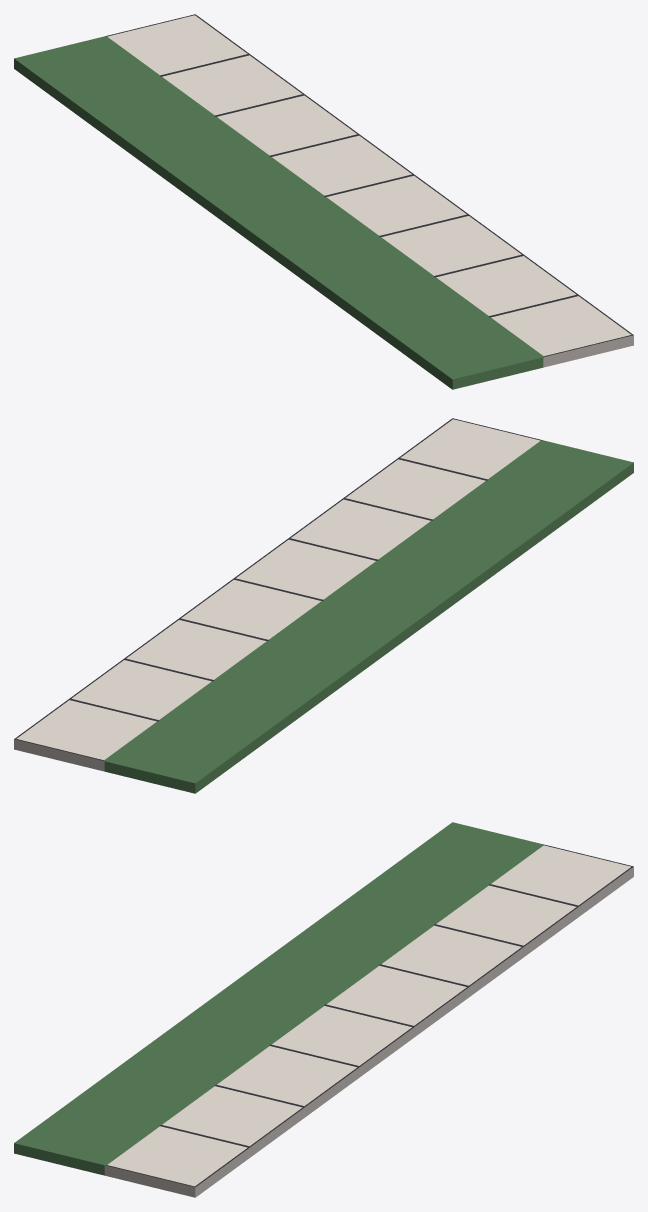
Rendered from intersection_t_sidewalk.fbx.
3 renders of one model, top to bottom at view 1: azimuth 30°, elevation 25°; view 2: azimuth 150°, elevation 25°; view 3: azimuth 330°, elevation 25°, orthographic.
Parts seen in each view (by area): view 1: Cube.001; view 2: Cube.001; view 3: Cube.001.
Boxes of the visible parts, <box> form: Cube.001: <box>14,14,633,389</box>; Cube.001: <box>14,418,633,793</box>; Cube.001: <box>14,822,633,1197</box>.
Size of the model in its own units: 366 by 20 by 1532.
